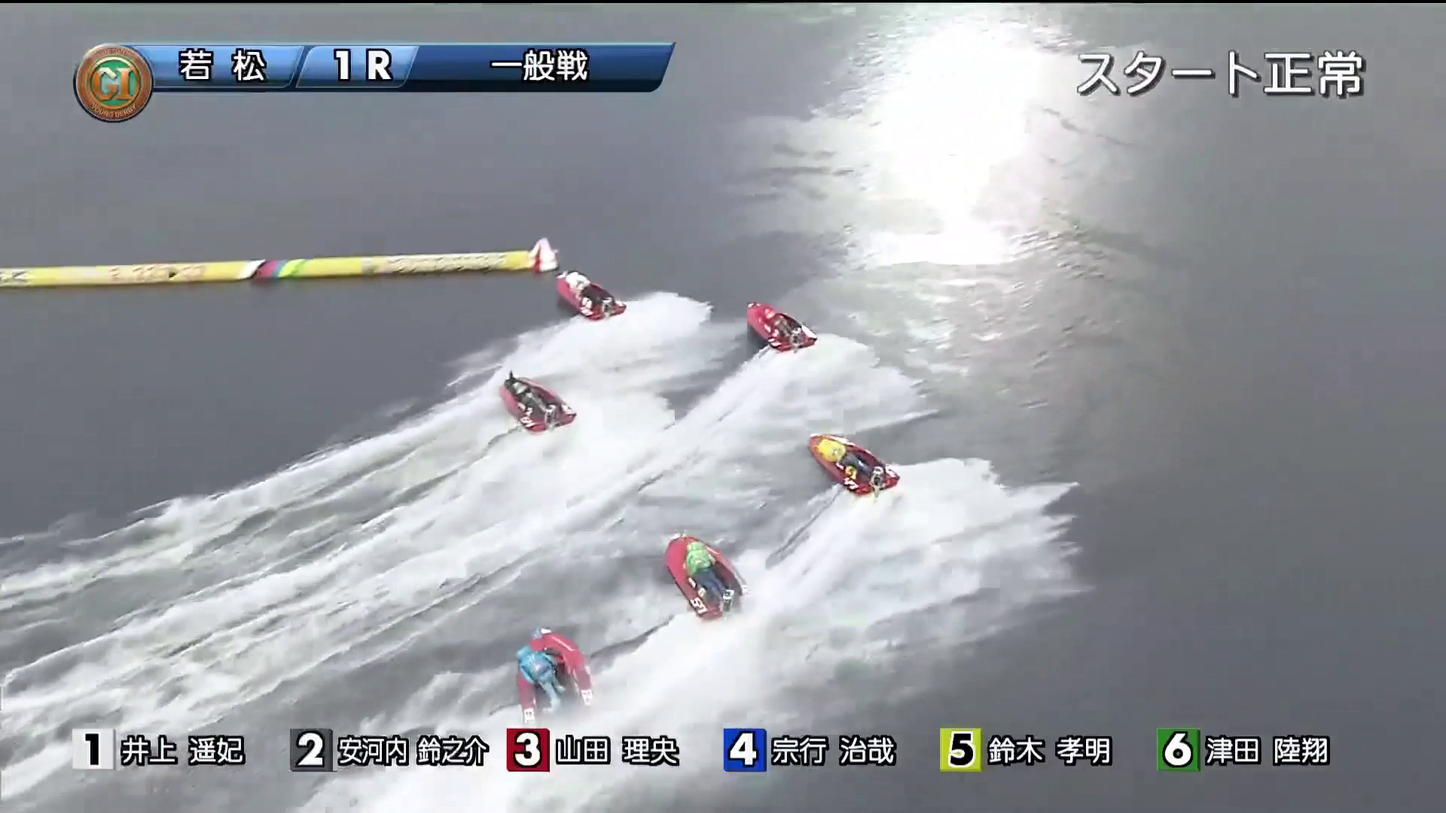１号艇: (564, 268, 635, 322)
２号艇: (494, 372, 623, 432)
３号艇: (747, 301, 844, 348)
４号艇: (678, 536, 811, 602)
５号艇: (503, 650, 627, 705)
６号艇: (822, 437, 921, 494)
